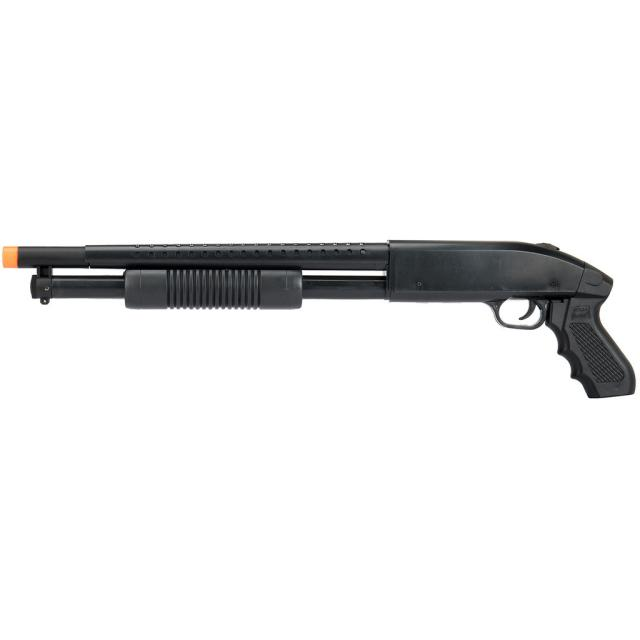ShotGun: (0, 239, 639, 401)
